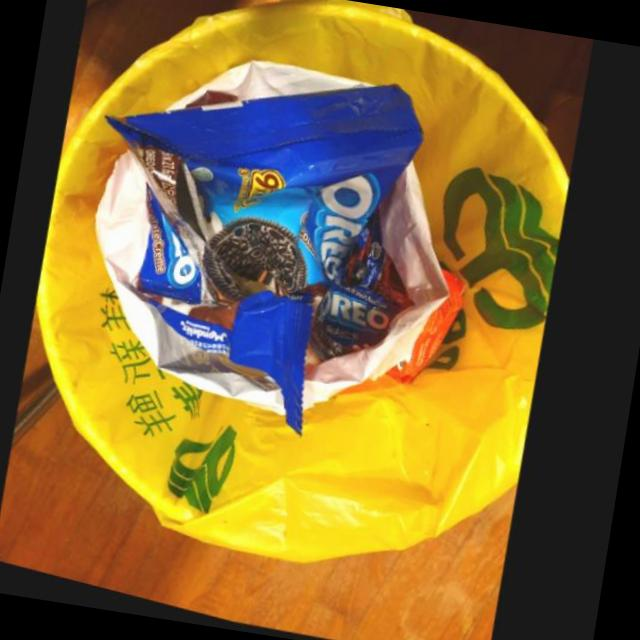bao_bi_thuc_pham: (128, 89, 426, 307), (144, 297, 321, 444), (136, 152, 251, 315), (315, 279, 411, 368)
